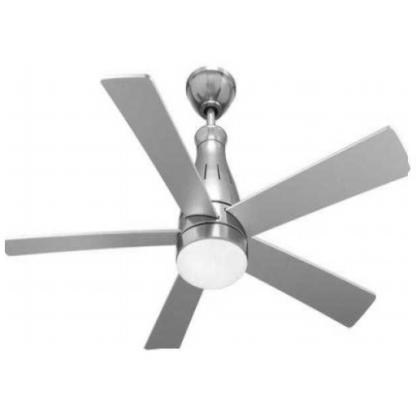ceiling-fan: (5, 65, 409, 349)
